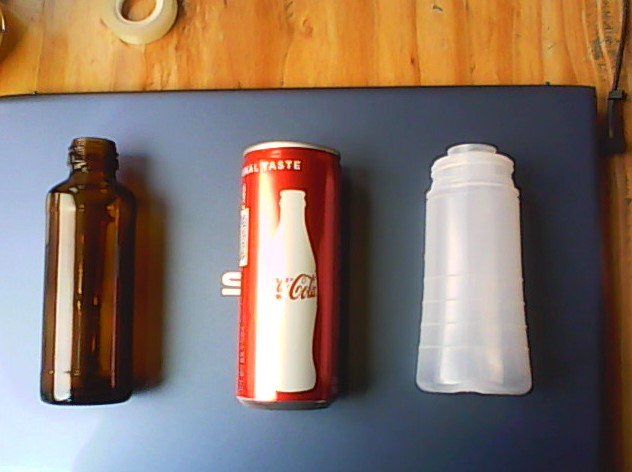Can: (231, 136, 345, 415)
Glass: (37, 130, 138, 410)
Plastic: (409, 139, 539, 400)
